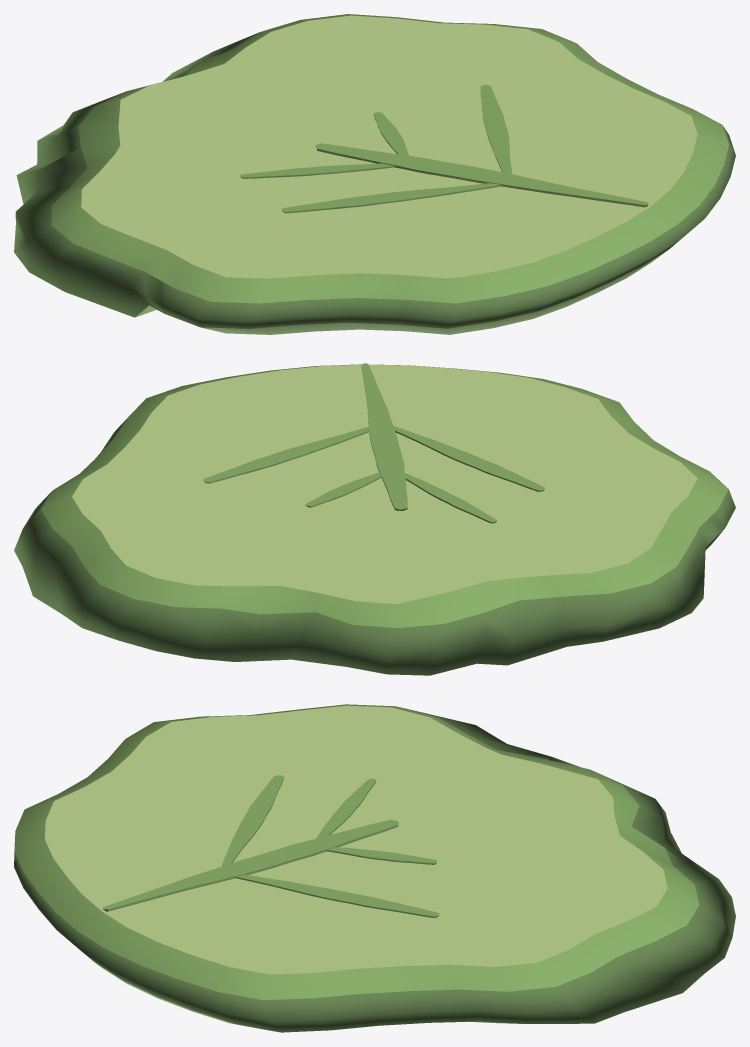
Rendered from Obj_Lechuga_04.fbx.
3 renders of one model, top to bottom at view 1: azimuth 30°, elevation 25°; view 2: azimuth 150°, elevation 25°; view 3: azimuth 270°, elevation 25°, orthographic. The views are drawn at different scales.
Parts seen in each view (by area): view 1: Obj_Lechuga_003; view 2: Obj_Lechuga_003; view 3: Obj_Lechuga_003.
Part boxes in pixels (x1,y1,x2,y2): Obj_Lechuga_003: (14,14,735,334); Obj_Lechuga_003: (14,363,735,675); Obj_Lechuga_003: (14,704,735,1032).
Size of the model in its own units: 0.6022 by 0.0608 by 0.5801.
